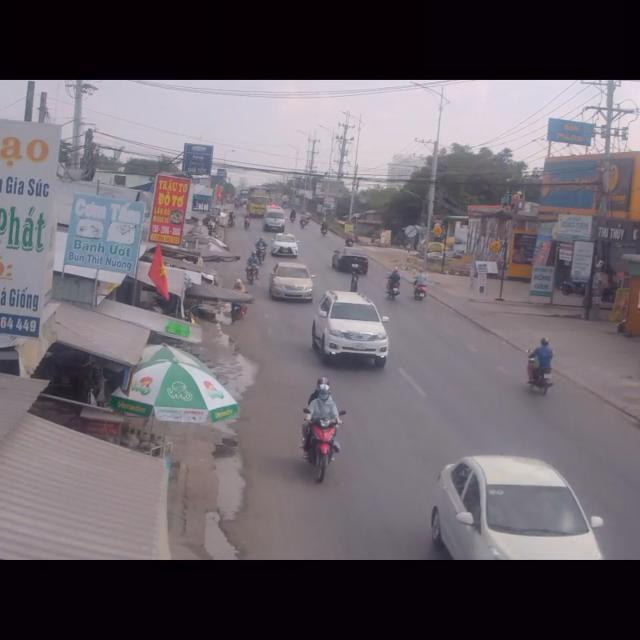car: (430, 447, 605, 556), (314, 293, 390, 369), (266, 261, 316, 307), (271, 234, 299, 262), (333, 248, 366, 271)
motorbike: (302, 377, 345, 490), (526, 334, 556, 401), (385, 265, 402, 303), (412, 268, 428, 303)
